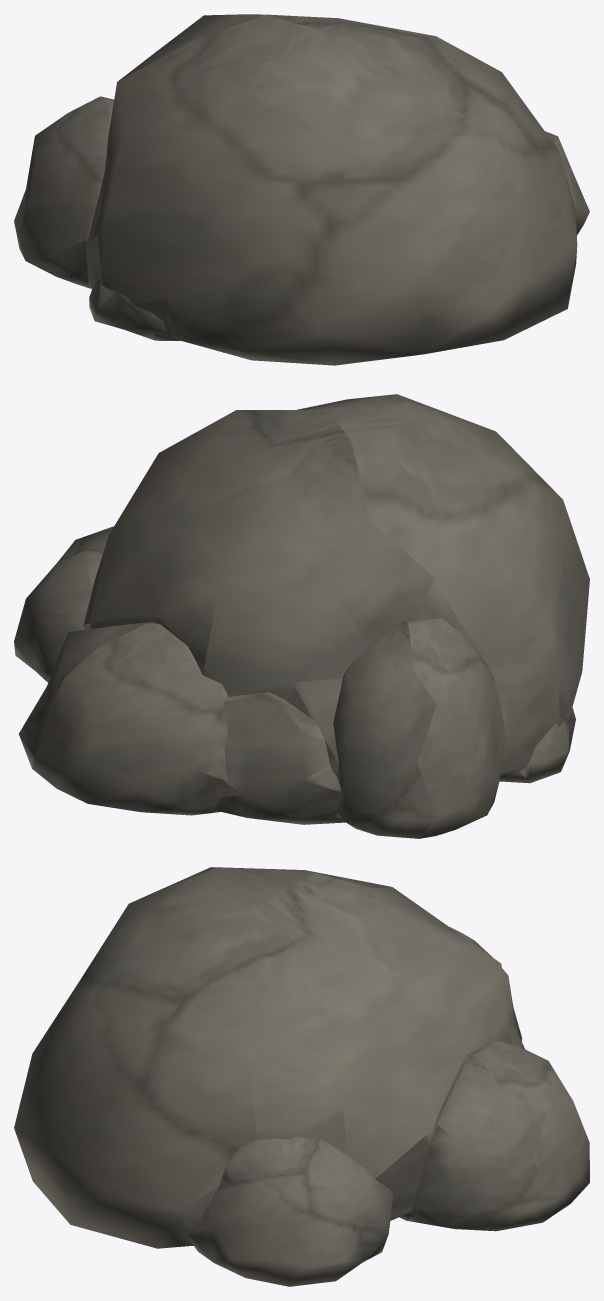
The model's file is low-poly-rock-2.glb.
3 renders of one model, top to bottom at view 1: azimuth 30°, elevation 25°; view 2: azimuth 150°, elevation 25°; view 3: azimuth 270°, elevation 25°, orthographic. The views are drawn at different scales.
Bounding box in the file's own units: 1.08 × 0.5961 × 1.09.
Materials: 1 (1 with a texture image).
